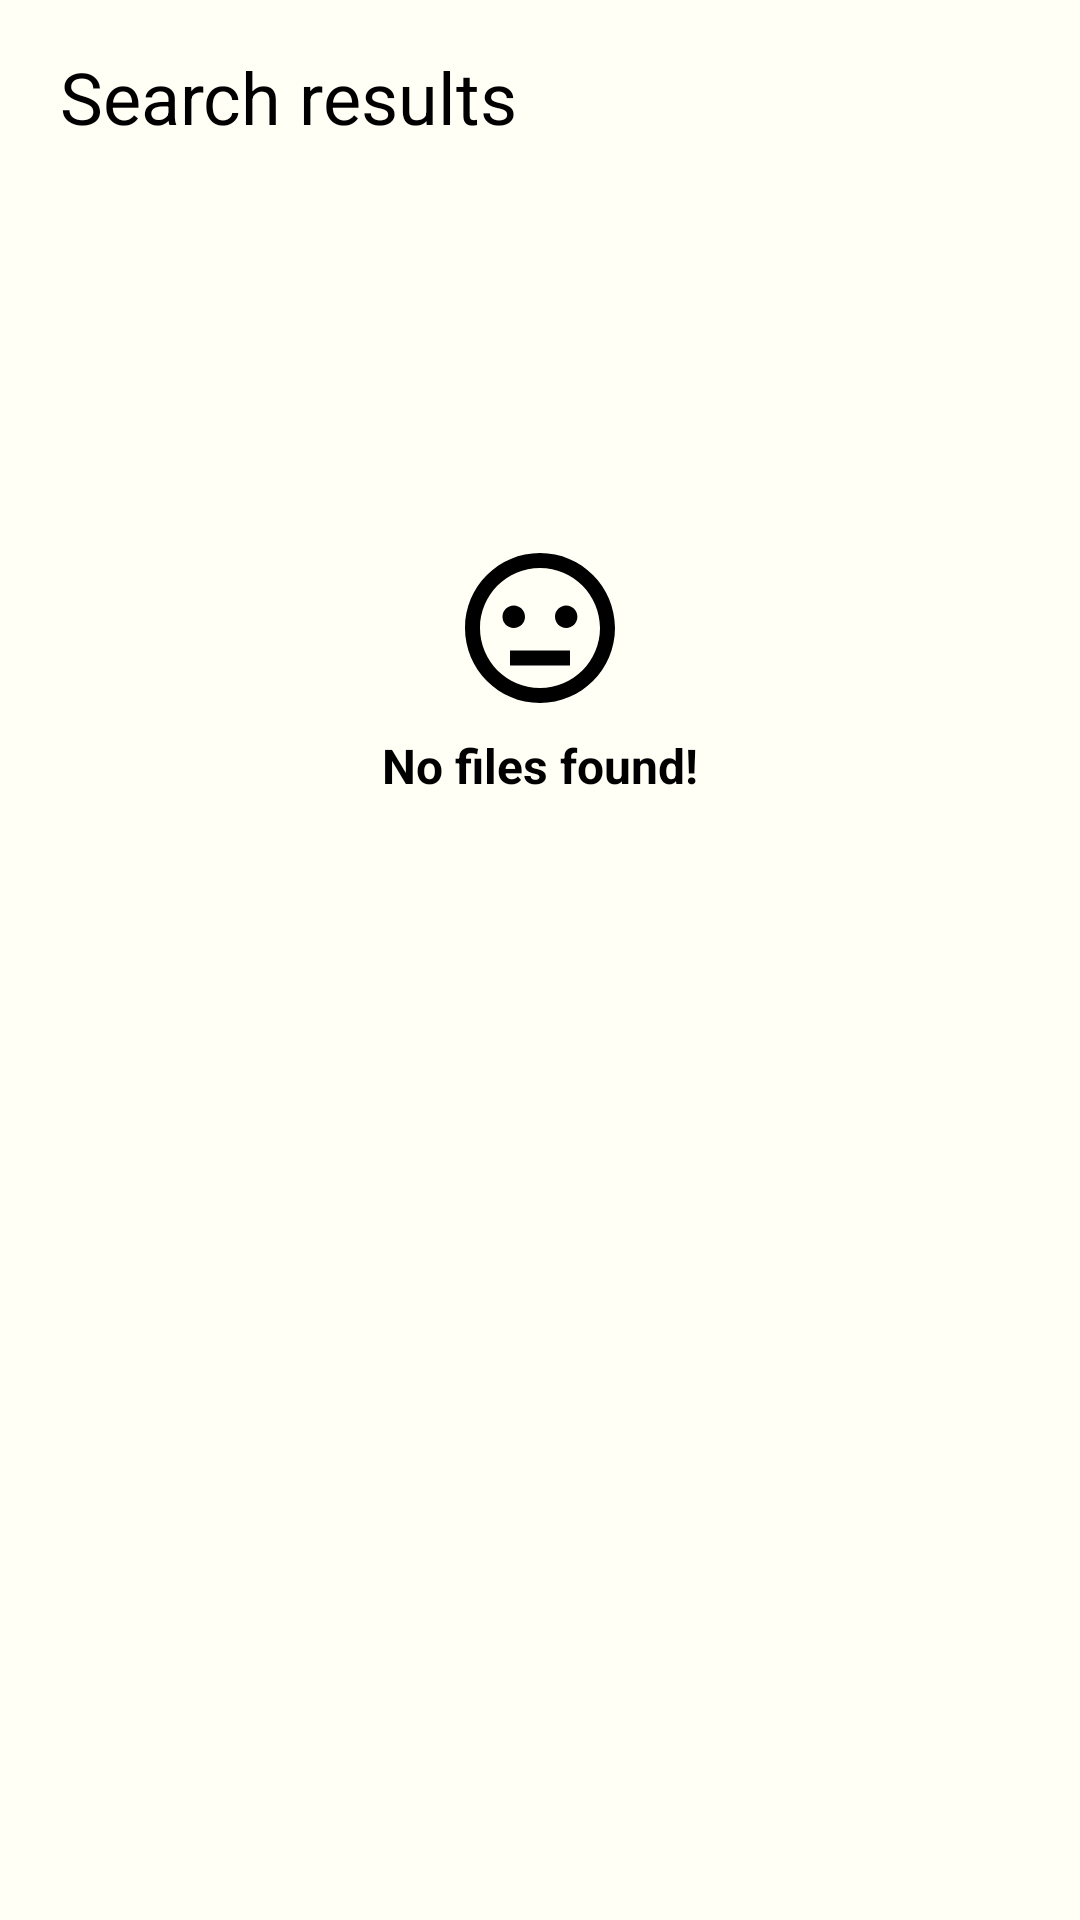

Named icons in this screenshot (1080*1920) and their centers, point (x, y):
confused: point (540, 628)
